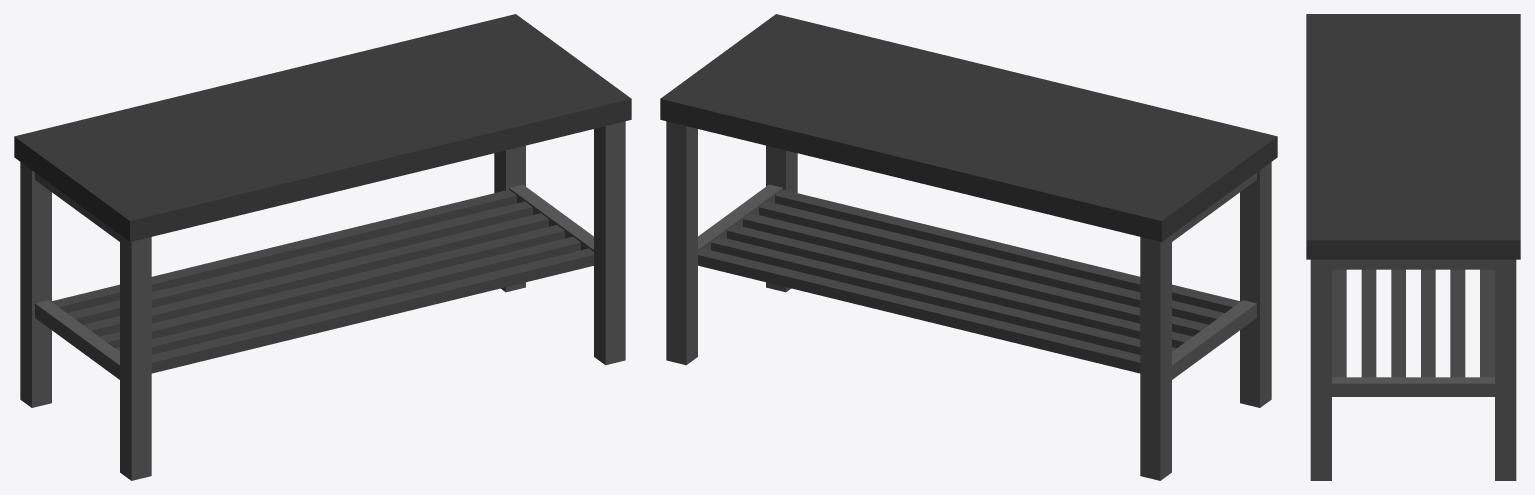
File: Bench2_C2.fbx
The picture shows the model from 3 angles, left to right: view 1: azimuth 30°, elevation 25°; view 2: azimuth 150°, elevation 25°; view 3: azimuth 270°, elevation 25°; orthographic projection. The views are drawn at different scales.
Visible parts, largest first — view 1: Bench2_C2; view 2: Bench2_C2; view 3: Bench2_C2.
Boxes of the visible parts, box(x1,y1,x2,y2) form: Bench2_C2: box(14, 14, 631, 480); Bench2_C2: box(660, 14, 1277, 480); Bench2_C2: box(1306, 14, 1520, 480).
Size of the model in its own units: 100 by 50 by 40.
